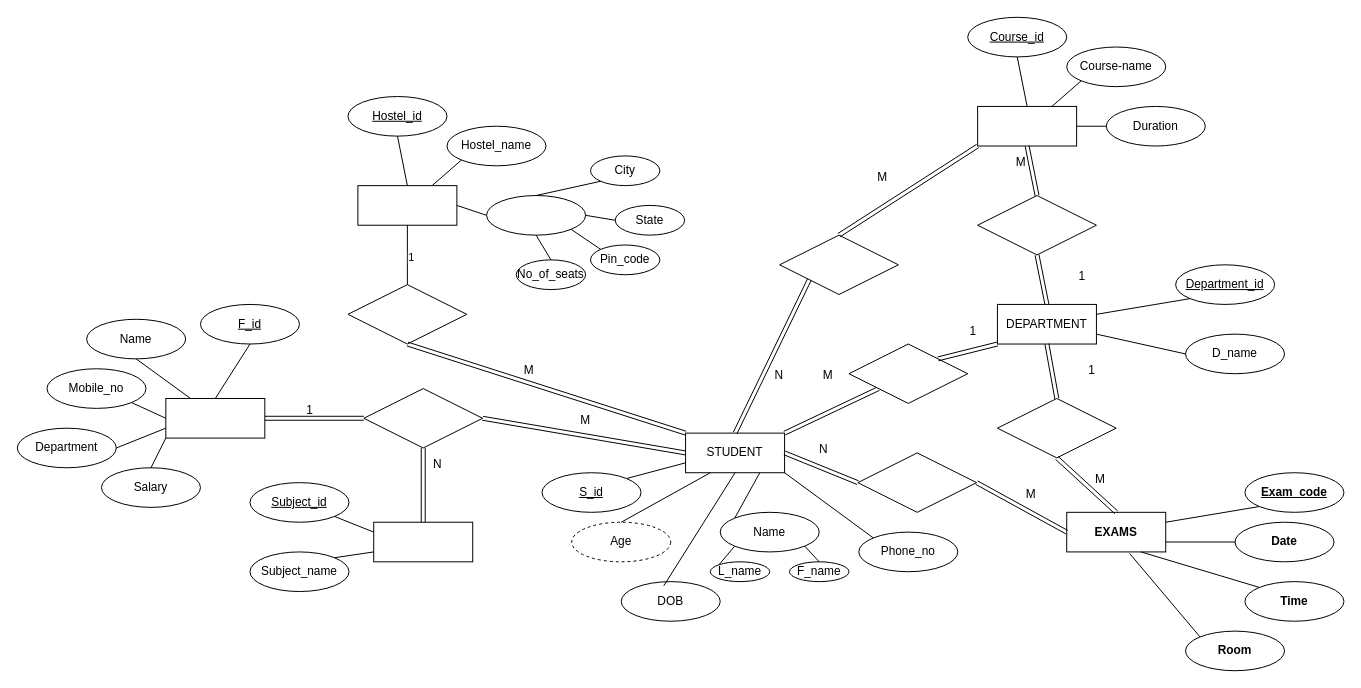
The diagram is 1361 pixels wide and 688 high, and some of its shapes have lost their labels. The shapes that lost their labels are listed below. From the top down, each one's centre as x and y in pixels, then its label:
(x=1027, y=125): COURSE
(x=407, y=205): HOSTEL
(x=536, y=215): Address
(x=1036, y=225): Handles
(x=838, y=264): Enroll in
(x=407, y=314): Lives_in
(x=908, y=373): Belong to
(x=215, y=417): FACULTY
(x=423, y=418): Teaches
(x=1056, y=427): conducts
(x=917, y=482): take
(x=423, y=541): SUBJECT
